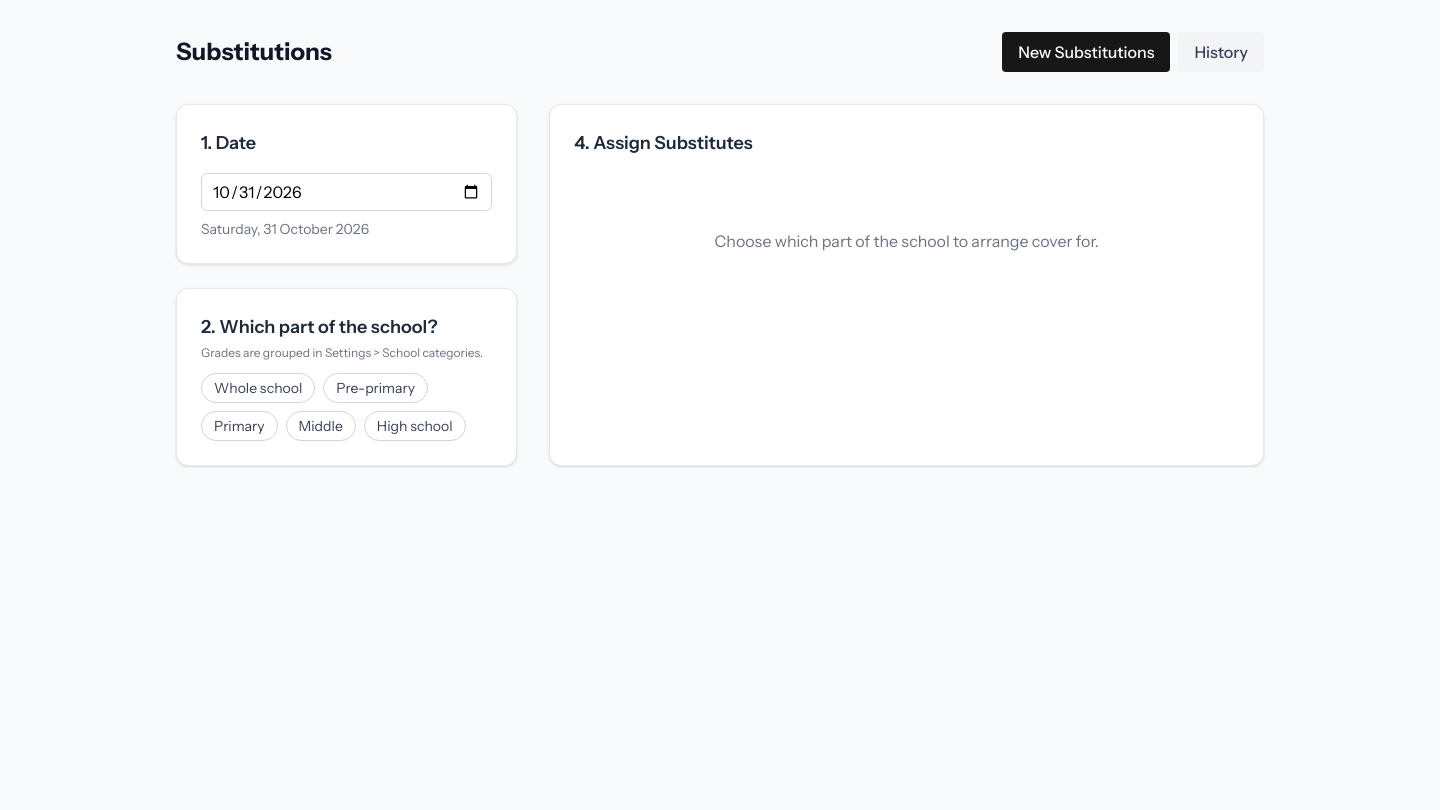
Test: saved cover elsewhere and choices made › a lesson chosen to be left uncovered stays so
Type "2026-10-26" into the date field named "Date" at (347, 192), box [201, 173, 492, 211]
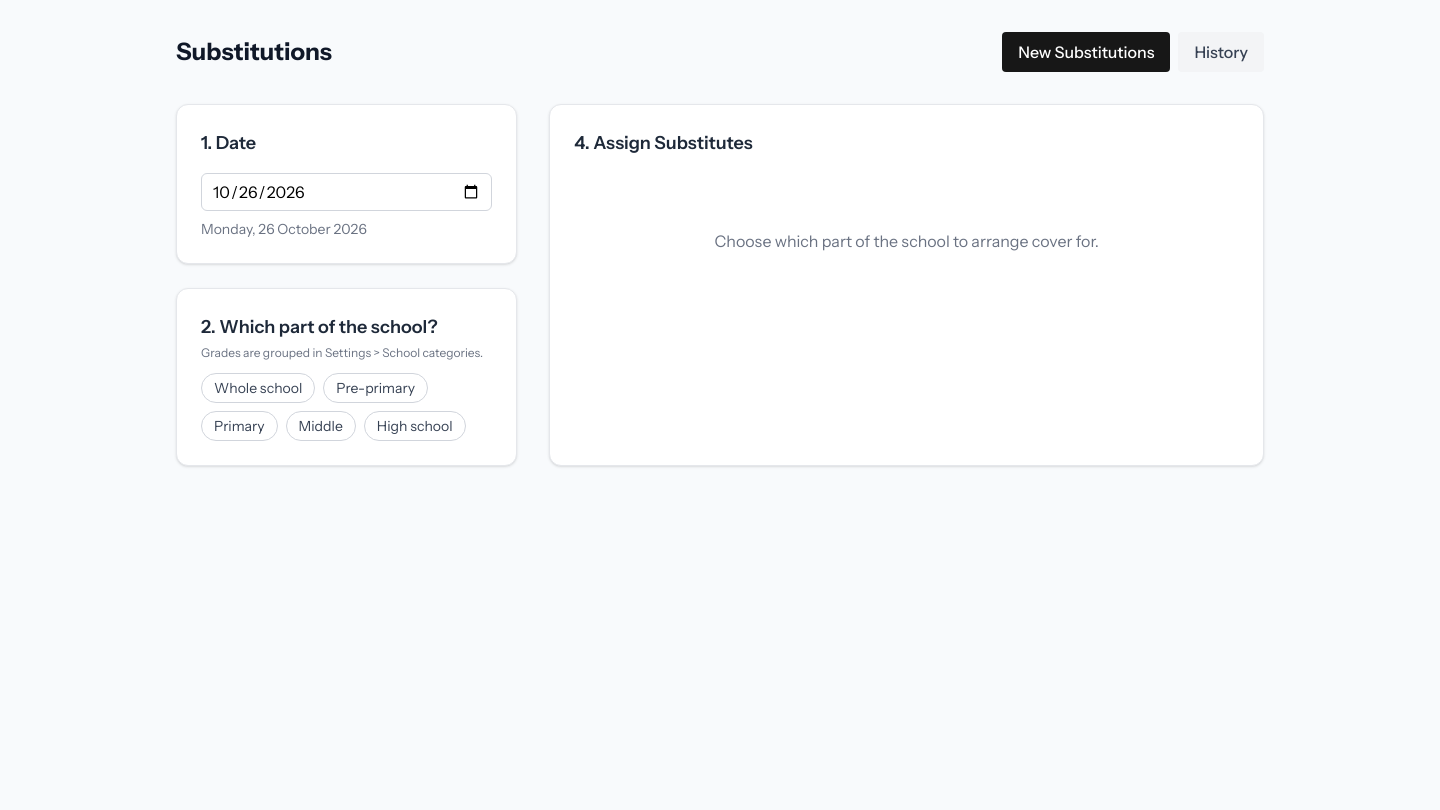
Click the radio button labelled "Whole school" at (258, 388), box [201, 373, 315, 403]
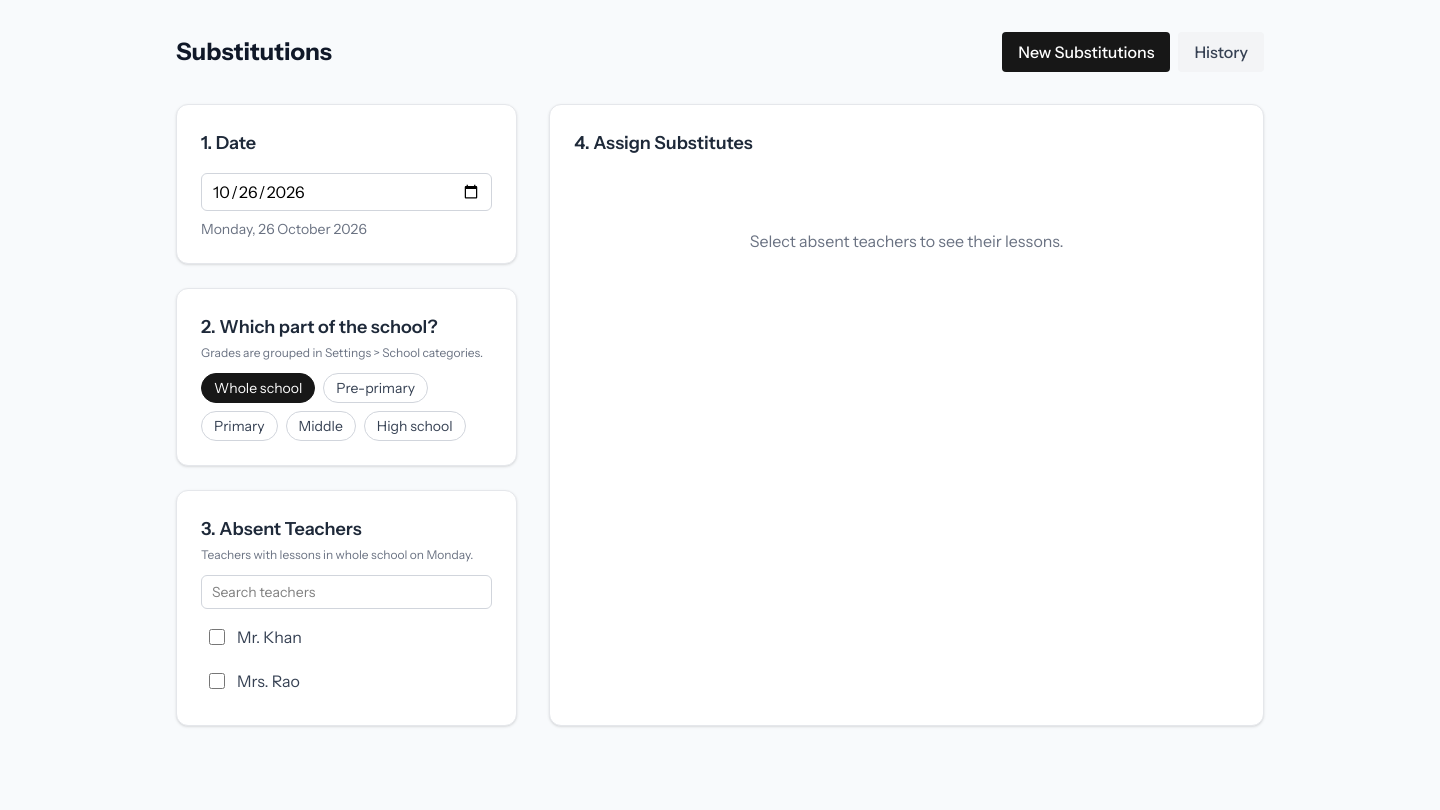
Click the checkbox labelled "Mrs. Rao" at (217, 681), box [209, 673, 225, 689]
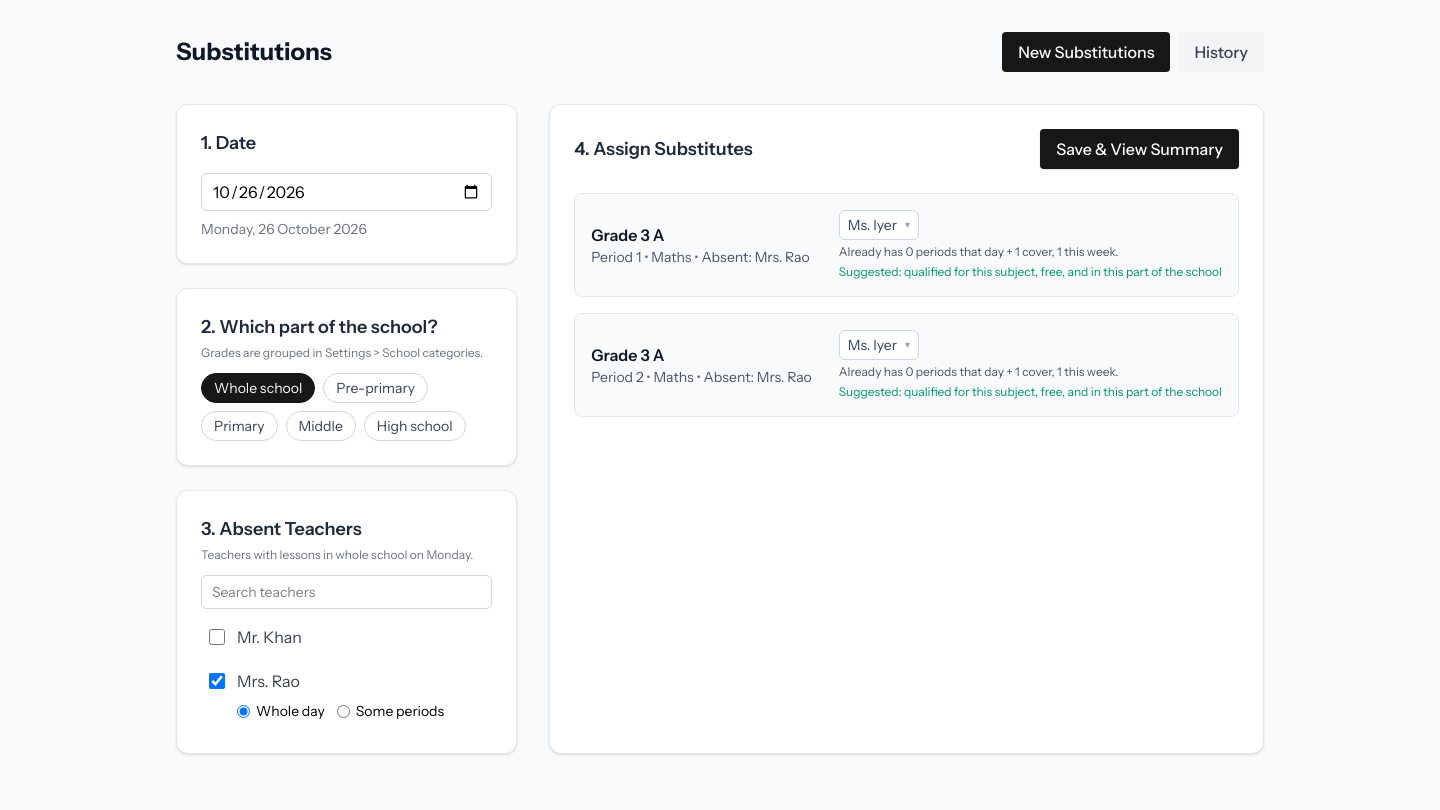
Click the dropdown named "Substitute for Maths, Period 1, Grade 3 A" at (879, 225), box [839, 210, 919, 240]
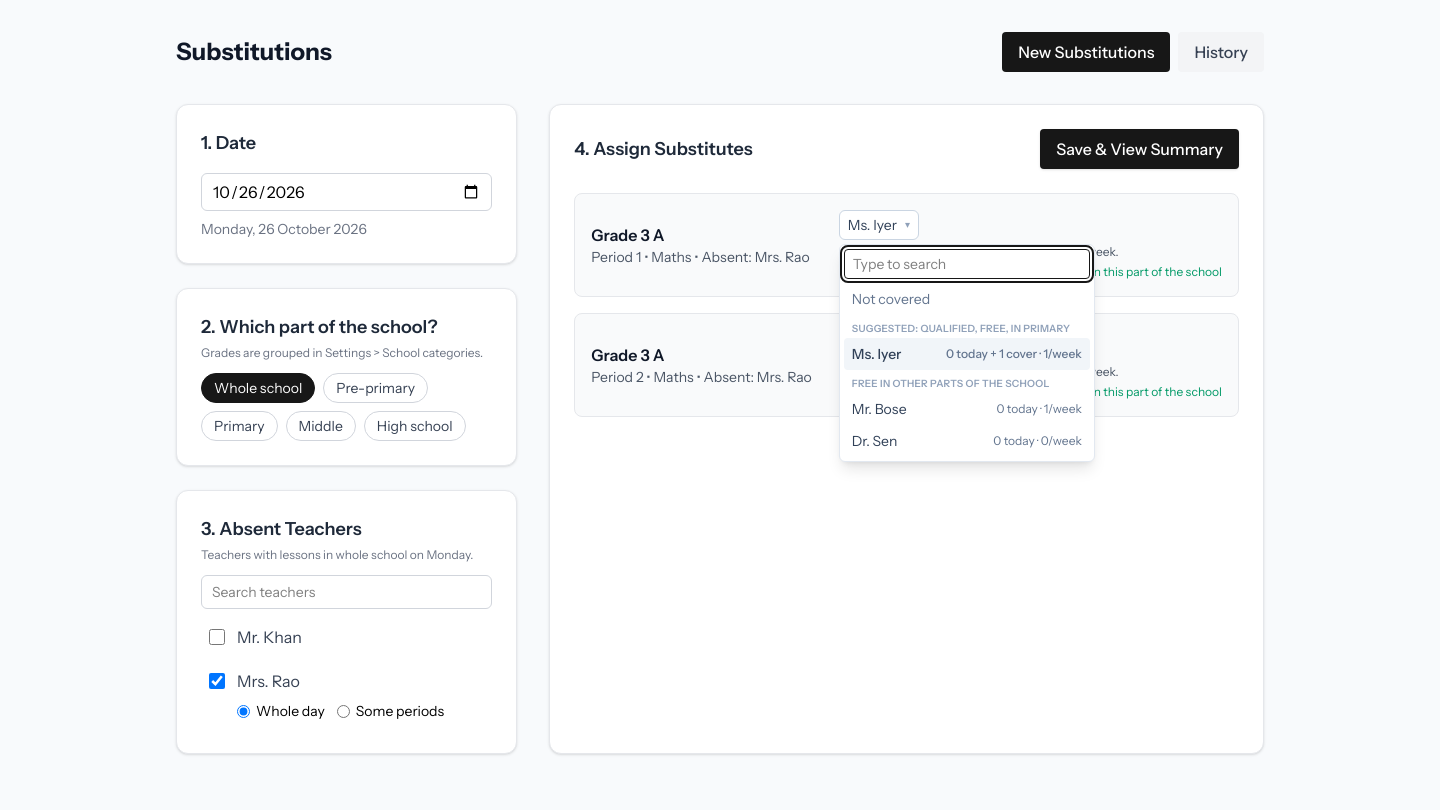
Click the option "Not covered" at (891, 299), box [852, 290, 930, 308]
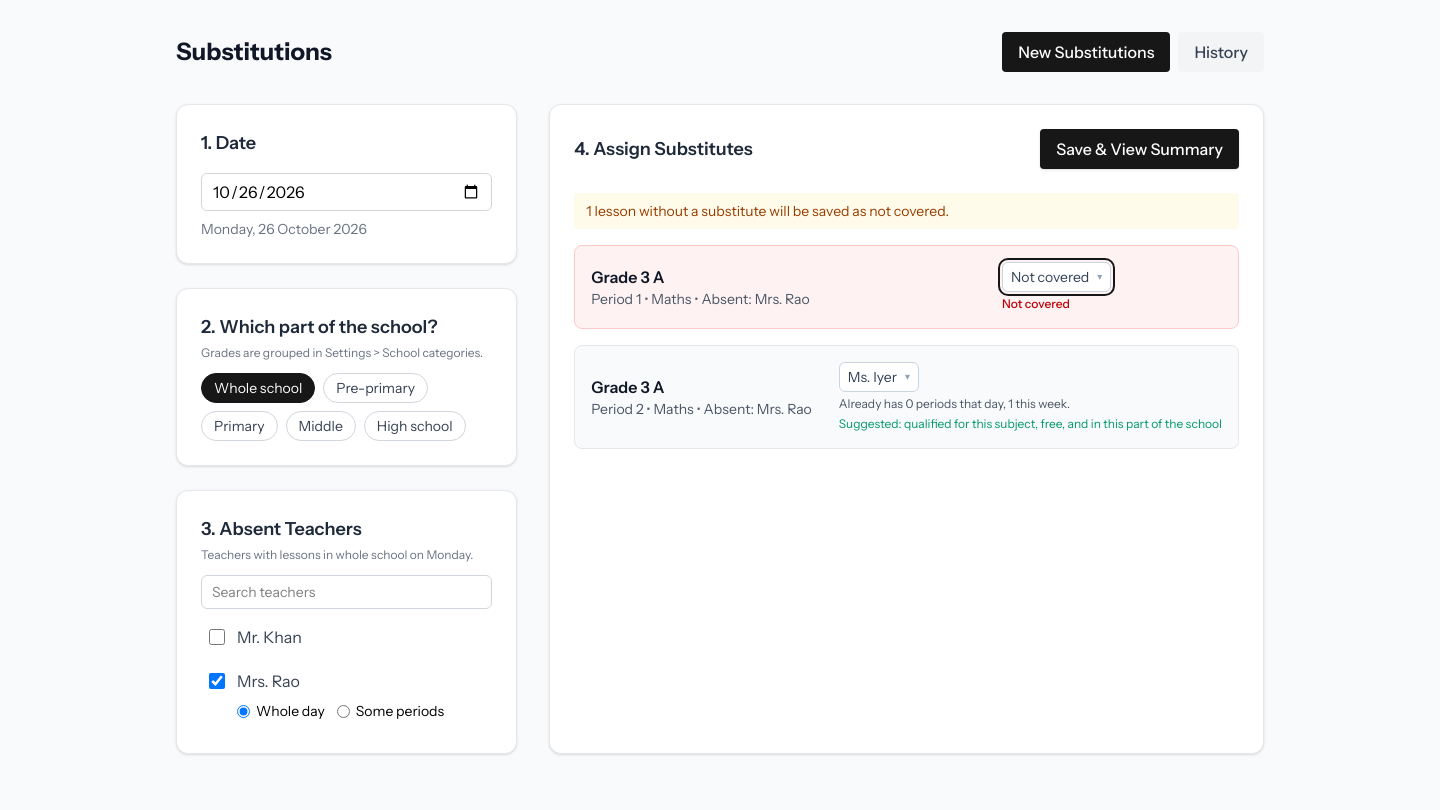
Click the checkbox labelled "Mr. Khan" at (217, 637), box [209, 629, 225, 645]
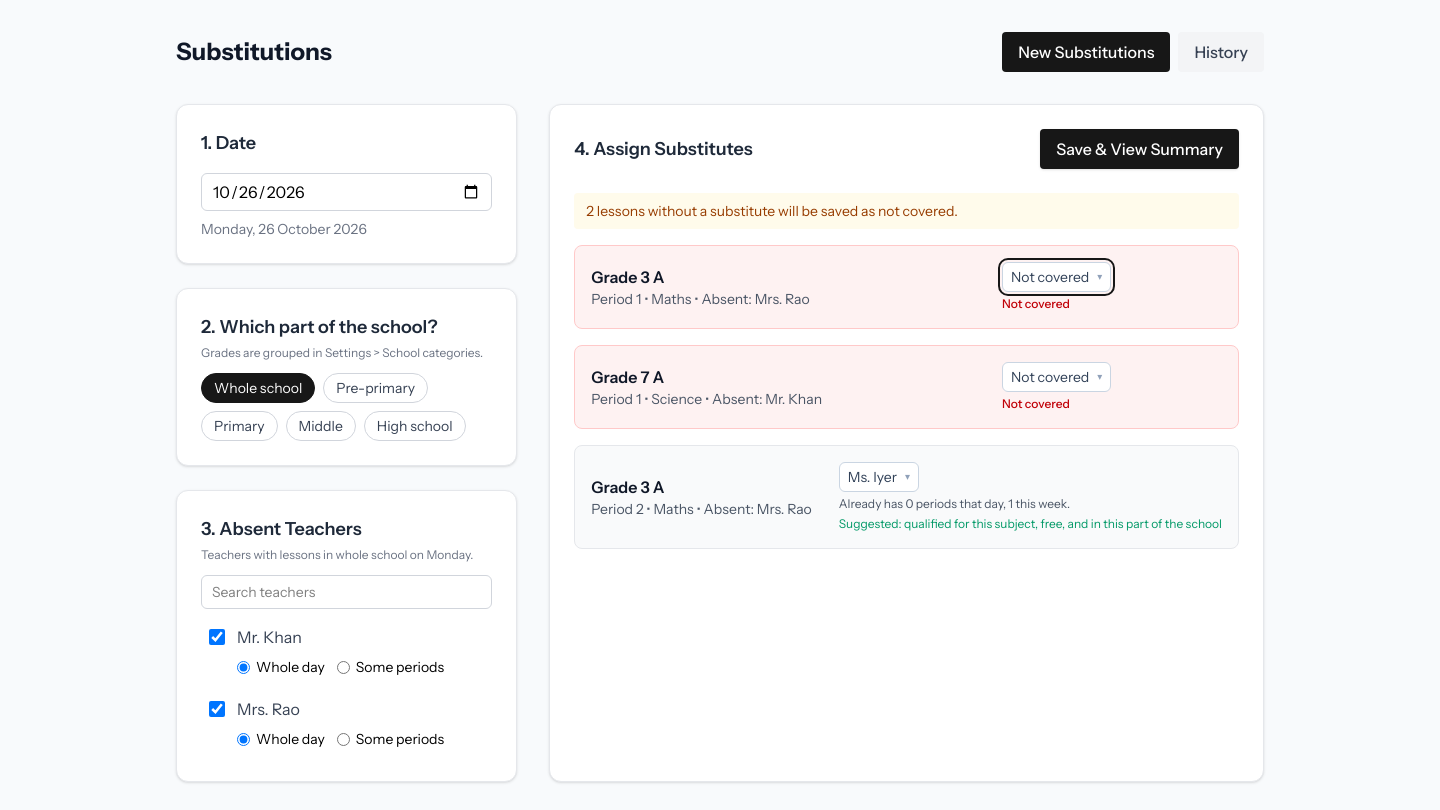
Result: the 1st text "Not covered" is shown at [1011, 267, 1089, 287]
Result: the number of dropdowns named "Substitute for" is 3 at [1002, 262, 1111, 292]; [1002, 362, 1111, 392]; [839, 462, 919, 492]
